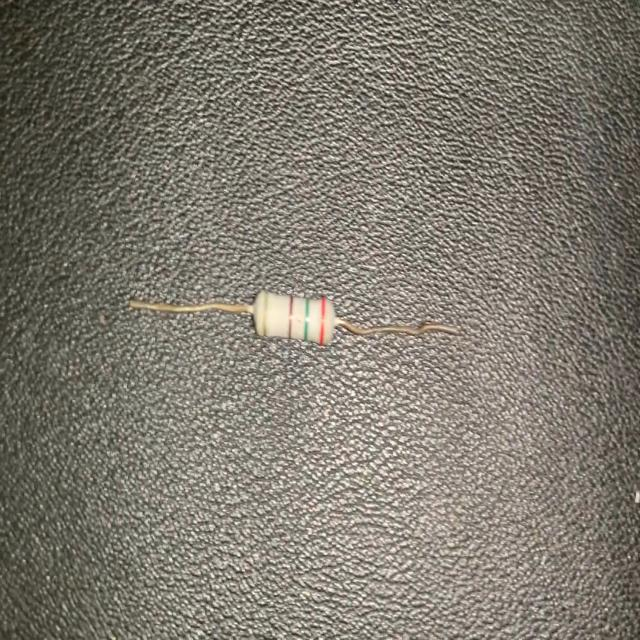resistor: (124, 282, 464, 360)
